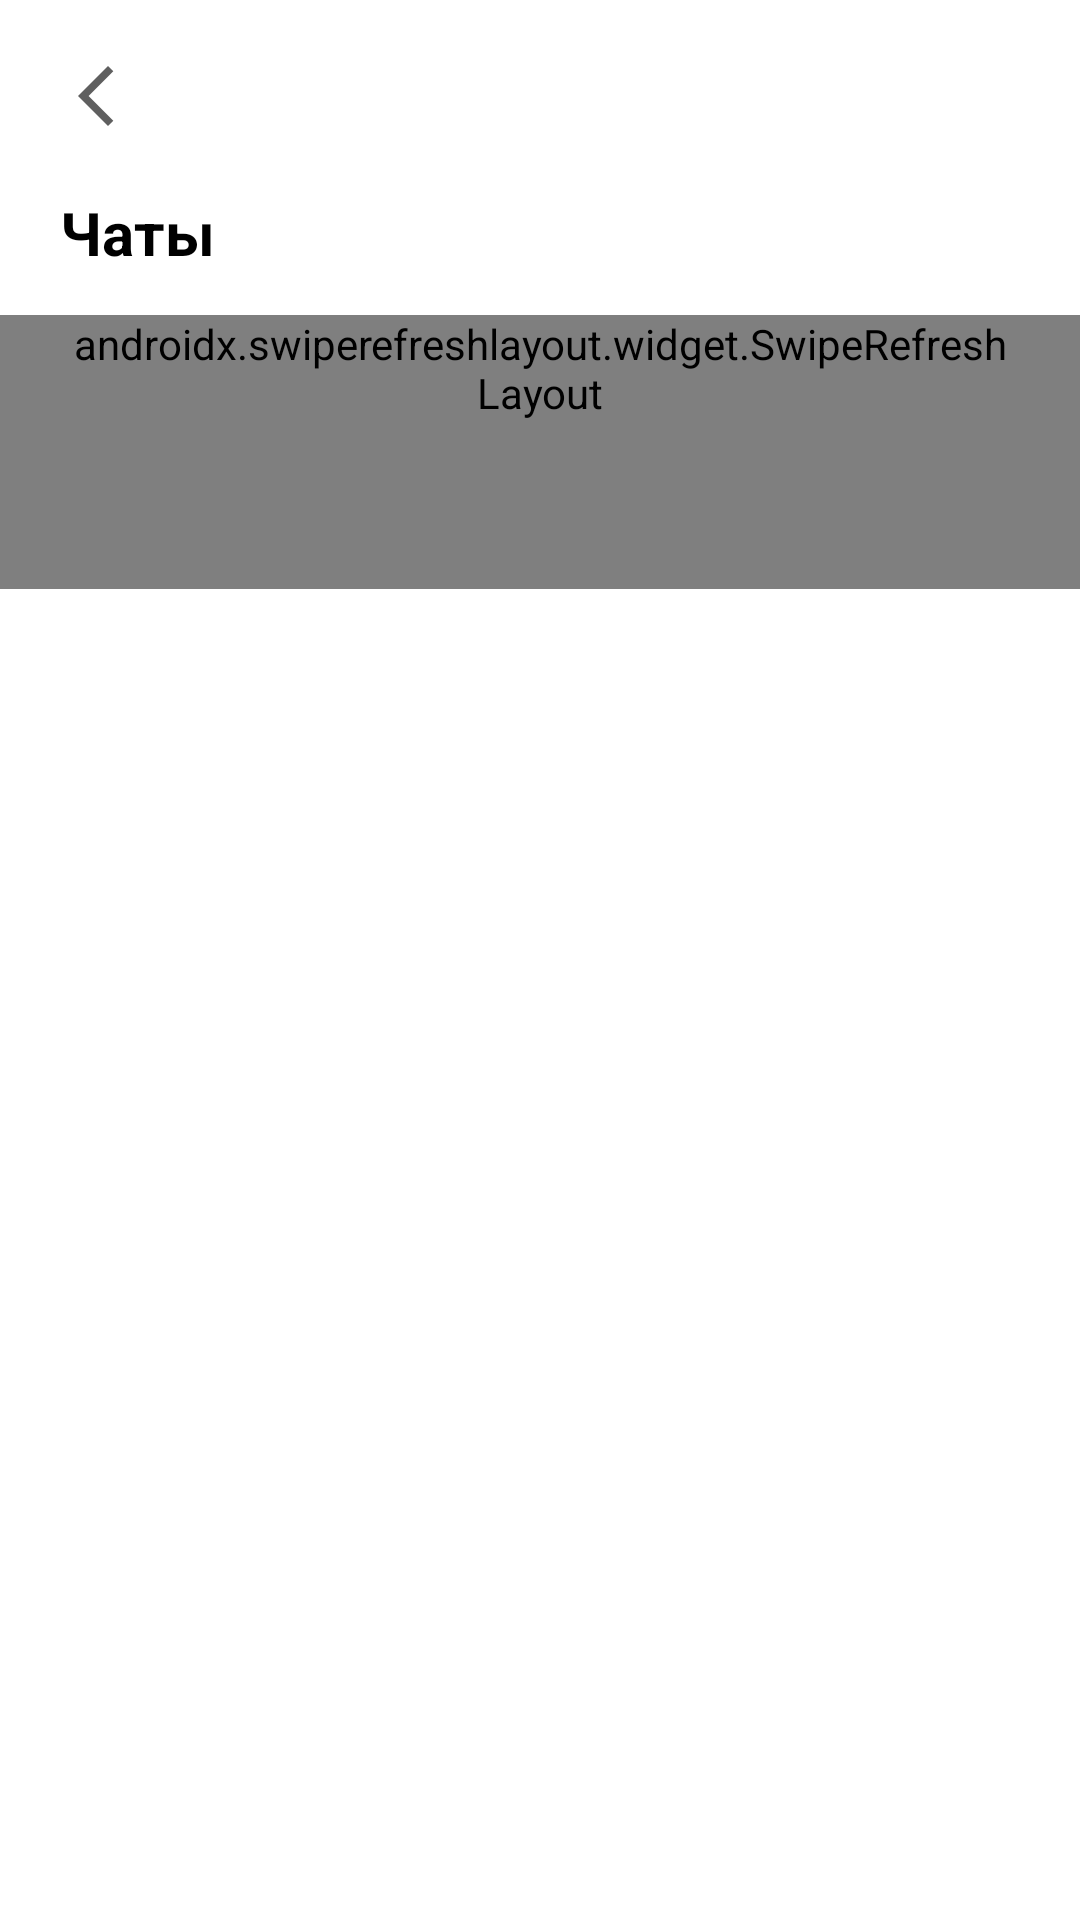

Icons on this 1080x1920 Android screen, each with its box as (x1=x1, y1=y1, x2=x2, y2=y2):
arrow back: (x1=78, y1=66, x2=113, y2=126)
